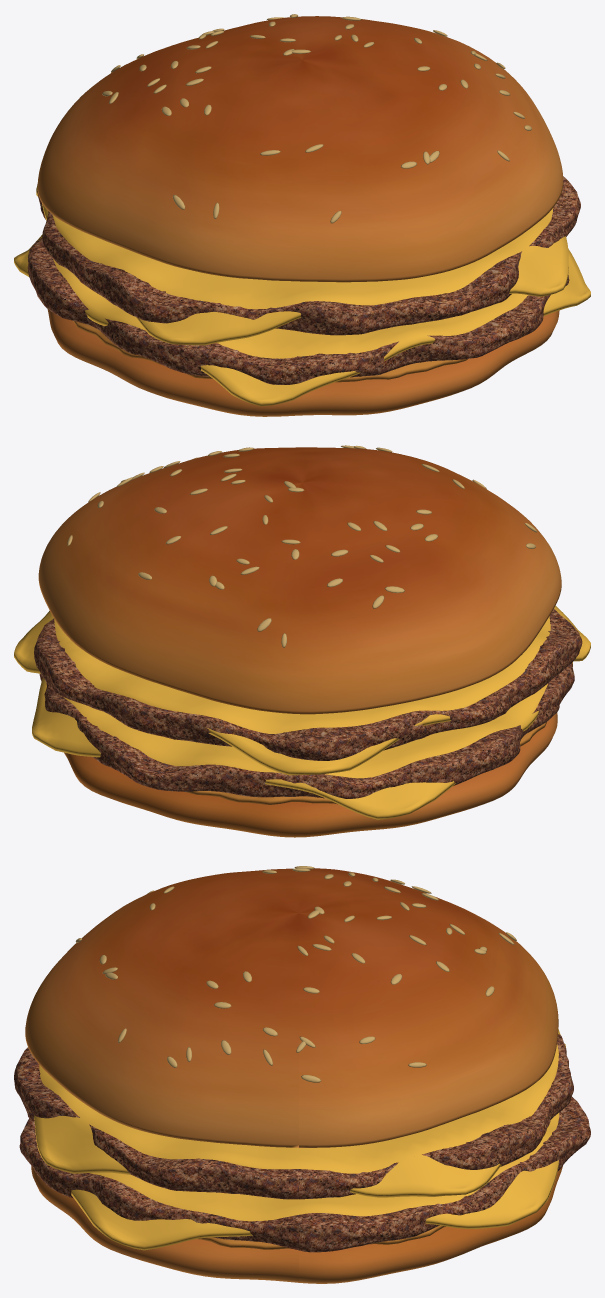
Rendered from parma-burger-web.glb.
3 views of the same model, one above another, from view 1: azimuth 30°, elevation 25°; view 2: azimuth 150°, elevation 25°; view 3: azimuth 270°, elevation 25° (orthographic). The views are drawn at different scales.
Parts seen in each view (by area): view 1: Asymmetric toasted brioche crown, Upper cheddar hugging beef, Upper thin smashed beef, Lower thin smashed beef, Brioche heel, Lower cheddar hugging beef, Scattered baked sesame, House sauce thin smear; view 2: Asymmetric toasted brioche crown, Upper thin smashed beef, Upper cheddar hugging beef, Lower thin smashed beef, Lower cheddar hugging beef, Brioche heel, Scattered baked sesame, House sauce thin smear; view 3: Asymmetric toasted brioche crown, Upper cheddar hugging beef, Upper thin smashed beef, Lower thin smashed beef, Lower cheddar hugging beef, Brioche heel, Scattered baked sesame, House sauce thin smear.
Boxes of the visible parts, bbox=[...] form: Asymmetric toasted brioche crown: bbox=[37, 16, 563, 282]; Upper cheddar hugging beef: bbox=[36, 184, 568, 345]; Upper thin smashed beef: bbox=[37, 176, 580, 335]; Lower thin smashed beef: bbox=[27, 238, 569, 384]; Brioche heel: bbox=[47, 309, 559, 416]; Lower cheddar hugging beef: bbox=[14, 234, 590, 406]; Scattered baked sesame: bbox=[102, 14, 531, 223]; House sauce thin smear: bbox=[73, 321, 467, 382]; Asymmetric toasted brioche crown: bbox=[38, 447, 561, 714]; Upper thin smashed beef: bbox=[34, 609, 582, 760]; Upper cheddar hugging beef: bbox=[14, 605, 590, 775]; Lower thin smashed beef: bbox=[39, 663, 574, 798]; Lower cheddar hugging beef: bbox=[32, 662, 572, 819]; Brioche heel: bbox=[64, 712, 557, 837]; Scattered baked sesame: bbox=[67, 445, 536, 647]; House sauce thin smear: bbox=[186, 722, 546, 804]; Asymmetric toasted brioche crown: bbox=[25, 868, 558, 1147]; Upper cheddar hugging beef: bbox=[34, 1029, 565, 1197]; Upper thin smashed beef: bbox=[14, 1034, 573, 1199]; Lower thin smashed beef: bbox=[19, 1096, 590, 1252]; Lower cheddar hugging beef: bbox=[71, 1113, 559, 1250]; Brioche heel: bbox=[31, 1166, 562, 1283]; Scattered baked sesame: bbox=[75, 866, 516, 1082]; House sauce thin smear: bbox=[198, 1225, 445, 1249].
Bounding box in the file's own units: 3.11 × 1.66 × 3.13.
9 materials, 4 textured.
